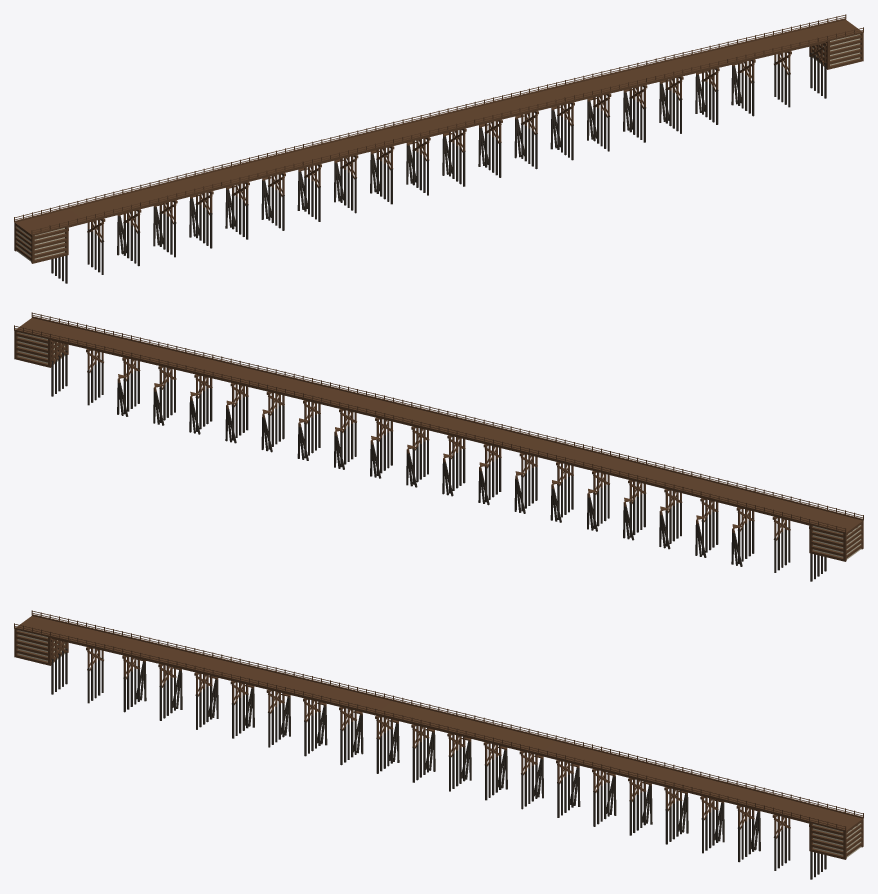
Rendered from rome_pons_sublicius.glb.
3 renders of one model, top to bottom at view 1: azimuth 30°, elevation 25°; view 2: azimuth 150°, elevation 25°; view 3: azimuth 330°, elevation 25°, orthographic.
Parts seen in each view (by area): view 1: rome_pons_sublicius; view 2: rome_pons_sublicius; view 3: rome_pons_sublicius.
Part boxes in pixels (x1,y1,x2,y2): rome_pons_sublicius: [14, 14, 863, 283]; rome_pons_sublicius: [14, 312, 863, 581]; rome_pons_sublicius: [14, 610, 863, 879].
Size of the model in its own units: 184 by 14.05 by 8.72.
